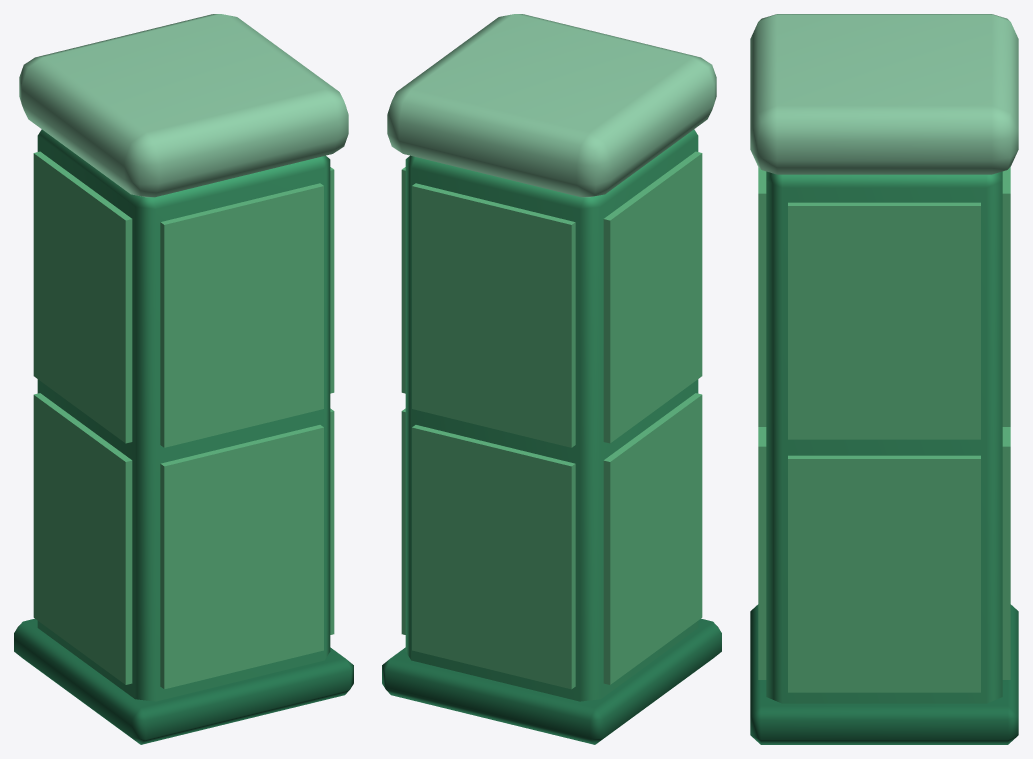
The model's file is mint-post.glb.
3 renders of one model, left to right at view 1: azimuth 30°, elevation 25°; view 2: azimuth 150°, elevation 25°; view 3: azimuth 270°, elevation 25°, orthographic. The views are drawn at different scales.
Parts seen in each view (by area): view 1: mint-post; view 2: mint-post; view 3: mint-post.
Boxes of the visible parts, left/top/right/bottom form: mint-post: left=14, top=14, right=353, bottom=744; mint-post: left=382, top=14, right=721, bottom=744; mint-post: left=750, top=14, right=1018, bottom=744.
Size of the model in its own units: 0.5 by 1.3 by 0.5.
